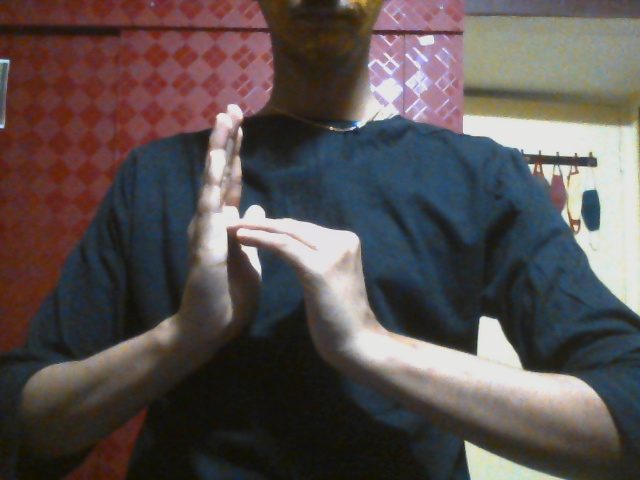Z: (155, 103, 386, 390)
